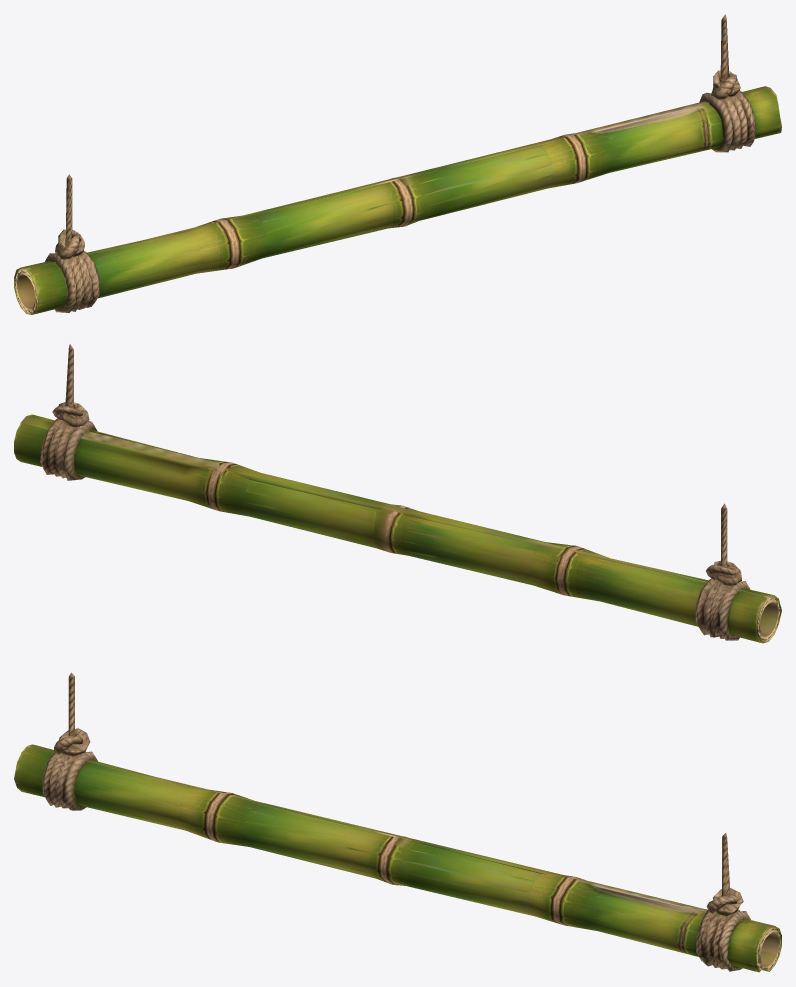
The model's file is BambooBar.fbx.
The picture shows the model from 3 angles, top to bottom: view 1: azimuth 30°, elevation 25°; view 2: azimuth 150°, elevation 25°; view 3: azimuth 330°, elevation 25°; orthographic projection.
Parts seen in each view (by area): view 1: BambooBar; view 2: BambooBar; view 3: BambooBar.
Boxes of the visible parts, x1,y1,x2,y2 form: BambooBar: (14, 14, 781, 314); BambooBar: (14, 344, 781, 643); BambooBar: (14, 672, 781, 972).
Size of the model in its own units: 2 by 0.3457 by 0.1509.
Materials: 1 (1 with a texture image).
